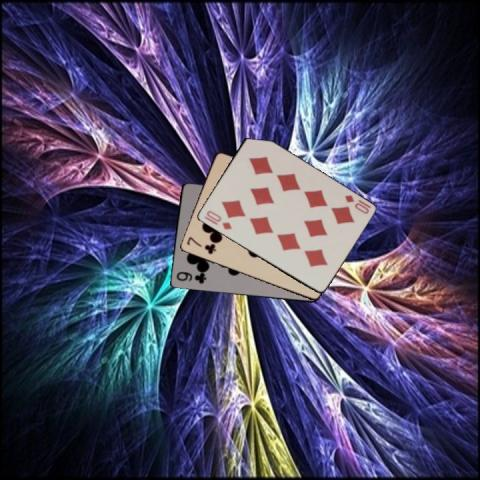10d: (203, 207, 233, 232), (341, 192, 372, 215)
7c: (184, 234, 218, 256)
9c: (174, 270, 207, 285)
